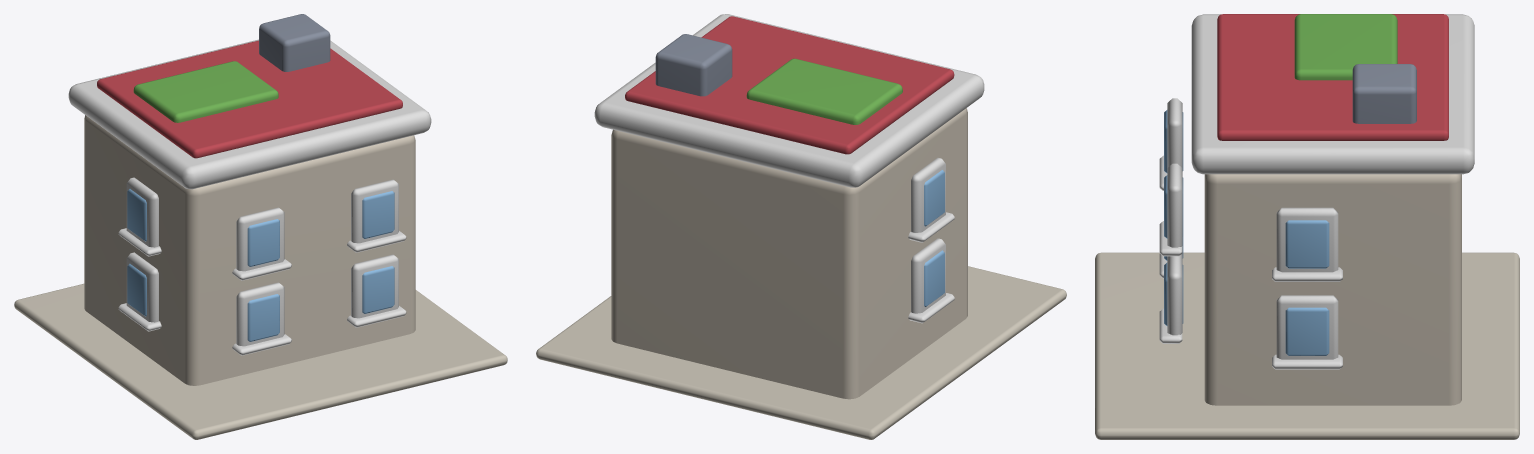
3 views of the same model, side by side, from view 1: azimuth 30°, elevation 25°; view 2: azimuth 150°, elevation 25°; view 3: azimuth 270°, elevation 25° (orthographic). The views are drawn at different scales.
Parts seen in each view (by area): view 1: Cube; view 2: Cube; view 3: Cube.
Part boxes in pixels (x1=…): Cube: x1=14, y1=14, x2=507, y2=439; Cube: x1=536, y1=14, x2=1066, y2=439; Cube: x1=1095, y1=14, x2=1519, y2=439.
Size of the model in its own units: 0.66 by 0.55 by 0.66.
